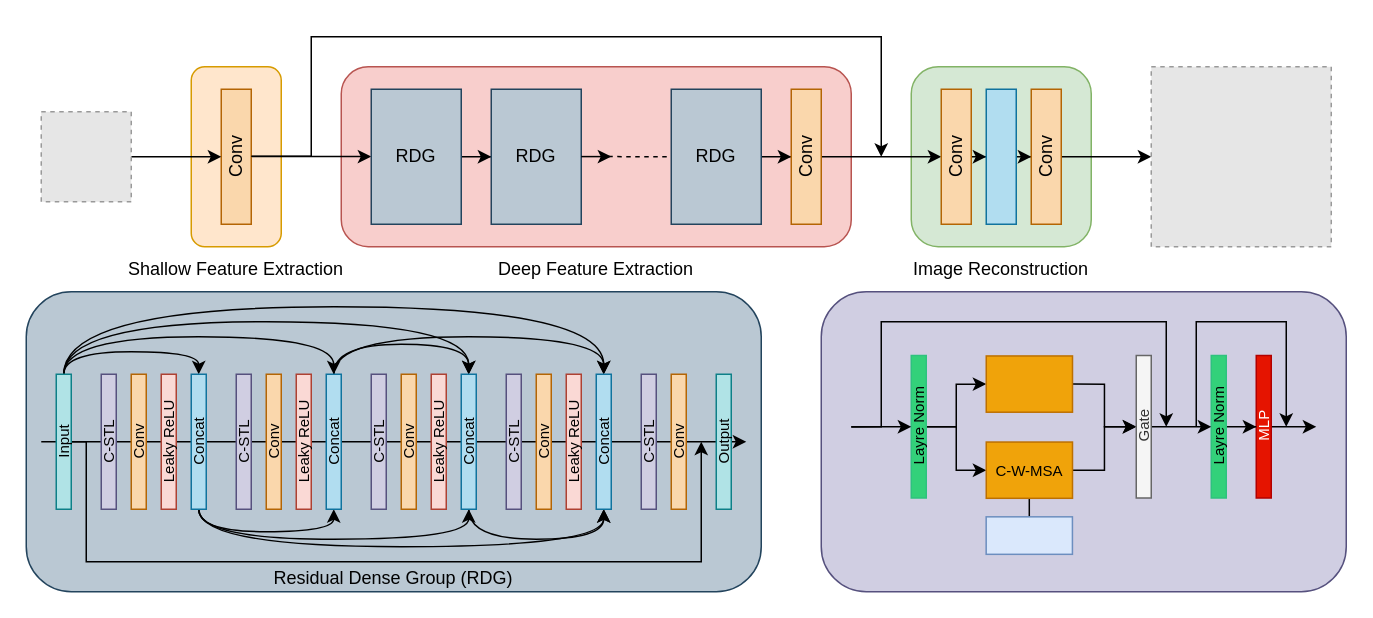
Some shapes in this 1373 by 618 pixel diagram are drawn without their labels. Grey dashed boxes stand in for pictures. The box of each missing label's shape, as (x1, y1, x2, y2) in pixels:
Cross Swin Transformer Block (CSTL): (820, 290, 1346, 592)
Features: (985, 515, 1072, 554)
Pixel Shuffle: (985, 88, 1016, 224)
W-MSA: (985, 354, 1072, 412)
